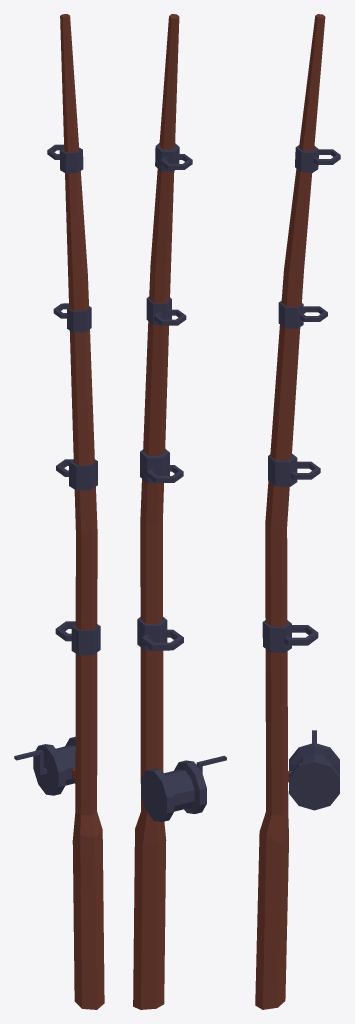
File: fishing_rod_lvl2.glb
3 renders of one model, left to right at view 1: azimuth 30°, elevation 25°; view 2: azimuth 210°, elevation 25°; view 3: azimuth 270°, elevation 25°, orthographic. The views are drawn at different scales.
Parts seen in each view (by area): view 1: FishingRod_Lvl2; view 2: FishingRod_Lvl2; view 3: FishingRod_Lvl2.
Boxes of the visible parts, box(x1,y1,x2,y2) form: FishingRod_Lvl2: box(14, 14, 104, 1009); FishingRod_Lvl2: box(133, 14, 226, 1009); FishingRod_Lvl2: box(255, 14, 340, 1009).
Size of the model in its own units: 0.1373 by 1.85 by 0.1449.
